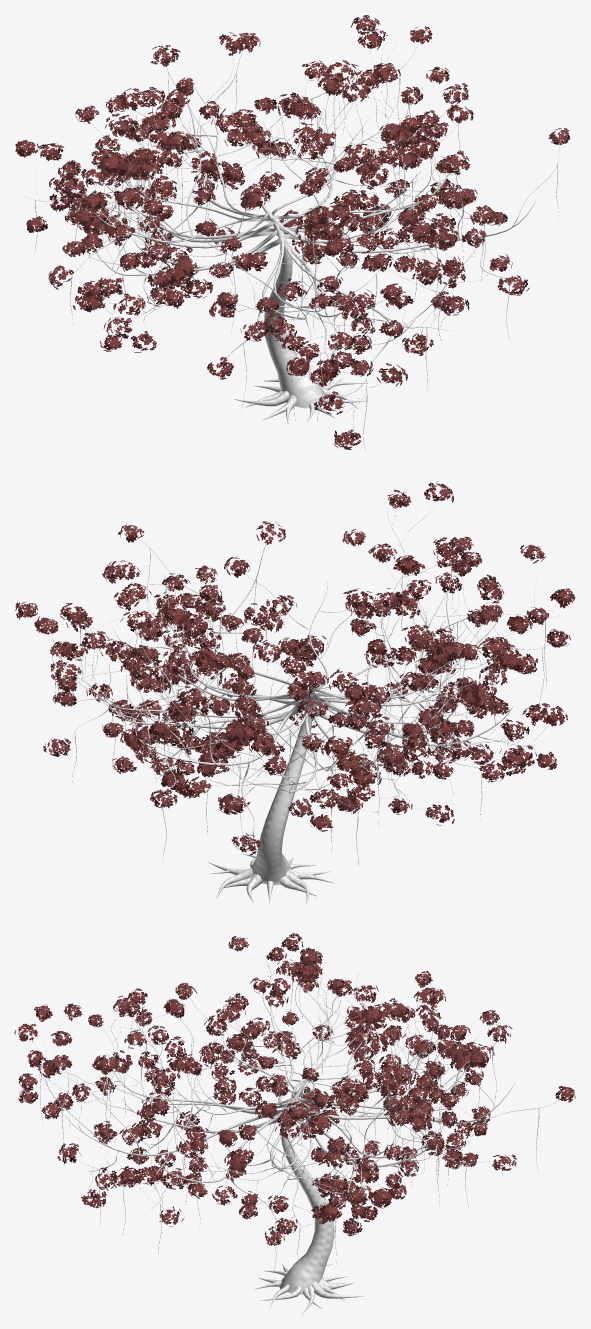
Rendered from tree.gltf.
3 views of the same model, one above another, from view 1: azimuth 30°, elevation 25°; view 2: azimuth 150°, elevation 25°; view 3: azimuth 270°, elevation 25° (orthographic). The views are drawn at different scales.
Parts seen in each view (by area): view 1: Tree_LOD0; view 2: Tree_LOD0; view 3: Tree_LOD0.
Part boxes in pixels (x1,y1,x2,y2): Tree_LOD0: [15, 15, 570, 451]; Tree_LOD0: [15, 481, 575, 903]; Tree_LOD0: [14, 933, 575, 1314].
Bounding box in the file's own units: 230 × 135 × 264.
Materials: 2 (2 with a texture image).
